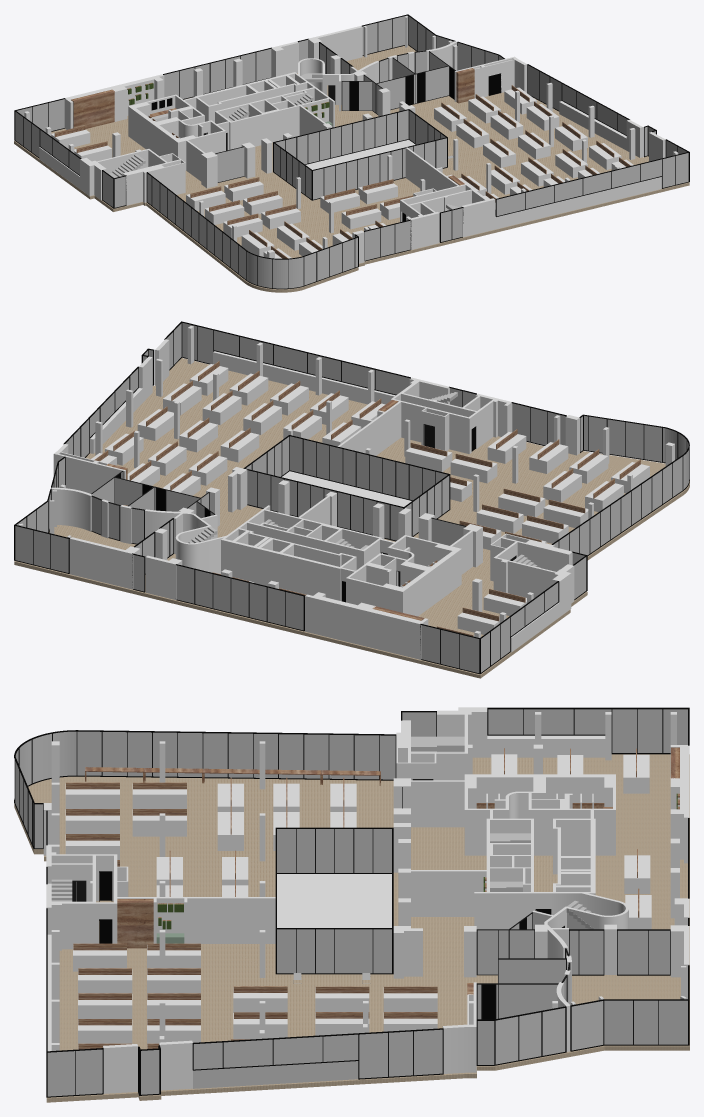
The model's file is ConvertPlans.glb.
3 renders of one model, top to bottom at view 1: azimuth 30°, elevation 25°; view 2: azimuth 150°, elevation 25°; view 3: azimuth 270°, elevation 25°, orthographic. The views are drawn at different scales.
Visible parts, largest first — view 1: Walls_1_Floor_001, Windows_glass_003, Slab_1_Floor_003, Windows_frame_004, Glazed_partitions_glass_002, Windows_frame_005, Box194051, Glazed_partitions_doors_002, Glazed_partitions_frame_002, Slab_1_Floor_002, Box194237, Box194231 (+24 smaller); view 2: Walls_1_Floor_001, Windows_glass_003, Slab_1_Floor_003, Windows_frame_004, Windows_frame_005, Glazed_partitions_glass_002, Windows_glass_004, Slab_1_Floor_002, Box194215, Box194235, Box194222, Box194189 (+25 smaller); view 3: Walls_1_Floor_001, Windows_glass_003, Slab_1_Floor_003, Windows_frame_004, Slab_1_Floor_002, Glazed_partitions_glass_002, Windows_frame_005, Box194159, Box194212, Box194214, Box194210, Box194173 (+26 smaller).
Part boxes in pixels (left/top/right/bottom): Walls_1_Floor_001: left=24, top=16, right=678, bottom=263; Windows_glass_003: left=15, top=15, right=688, bottom=288; Slab_1_Floor_003: left=14, top=45, right=689, bottom=292; Windows_frame_004: left=14, top=14, right=689, bottom=289; Glazed_partitions_glass_002: left=216, top=52, right=449, bottom=182; Windows_frame_005: left=23, top=19, right=677, bottom=288; Box194051: left=71, top=89, right=114, bottom=128; Glazed_partitions_doors_002: left=349, top=67, right=453, bottom=110; Glazed_partitions_frame_002: left=215, top=51, right=455, bottom=182; Slab_1_Floor_002: left=306, top=139, right=415, bottom=169; Box194237: left=341, top=208, right=381, bottom=229; Box194231: left=358, top=183, right=397, bottom=204; Walls_1_Floor_001: left=18, top=326, right=674, bottom=659; Windows_glass_003: left=15, top=323, right=688, bottom=672; Slab_1_Floor_003: left=14, top=358, right=689, bottom=678; Windows_frame_004: left=14, top=321, right=689, bottom=674; Windows_frame_005: left=26, top=326, right=689, bottom=668; Glazed_partitions_glass_002: left=92, top=472, right=464, bottom=545; Windows_glass_004: left=91, top=497, right=143, bottom=543; Slab_1_Floor_002: left=248, top=471, right=411, bottom=541; Box194215: left=529, top=442, right=568, bottom=473; Box194235: left=405, top=447, right=452, bottom=471; Box194222: left=476, top=509, right=523, bottom=533; Box194189: left=220, top=430, right=259, bottom=462; Walls_1_Floor_001: left=43, top=707, right=689, bottom=1093; Windows_glass_003: left=15, top=709, right=687, bottom=1096; Slab_1_Floor_003: left=14, top=754, right=689, bottom=1102; Windows_frame_004: left=14, top=707, right=689, bottom=1097; Slab_1_Floor_002: left=277, top=874, right=391, bottom=927; Glazed_partitions_glass_002: left=477, top=914, right=565, bottom=1019; Windows_frame_005: left=14, top=709, right=663, bottom=1095; Box194159: left=117, top=899, right=153, bottom=948; Box194212: left=65, top=784, right=119, bottom=809; Box194214: left=132, top=784, right=186, bottom=809; Box194210: left=132, top=810, right=186, bottom=836; Box194173: left=78, top=994, right=132, bottom=1019.
Size of the model in its own units: 51.77 by 3.56 by 42.89.
Materials: 13 (3 with a texture image).
